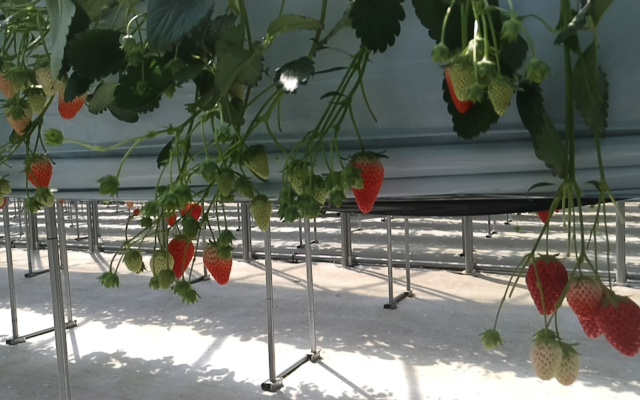GreenStrawberry: (52, 73, 91, 122), (449, 51, 486, 101), (530, 330, 564, 382), (553, 338, 582, 387), (35, 56, 67, 97), (487, 74, 518, 114), (4, 101, 35, 138), (284, 159, 312, 199), (240, 144, 271, 179), (248, 194, 274, 233), (149, 249, 173, 285), (212, 165, 237, 198), (304, 173, 326, 208), (24, 88, 49, 114), (1, 67, 19, 101), (122, 249, 144, 275)
MatureStrawberry: (523, 253, 570, 317), (345, 149, 387, 216), (598, 294, 640, 360), (440, 50, 477, 116), (577, 278, 615, 340), (561, 271, 601, 321), (165, 234, 195, 282), (202, 241, 233, 286), (22, 151, 55, 193)
